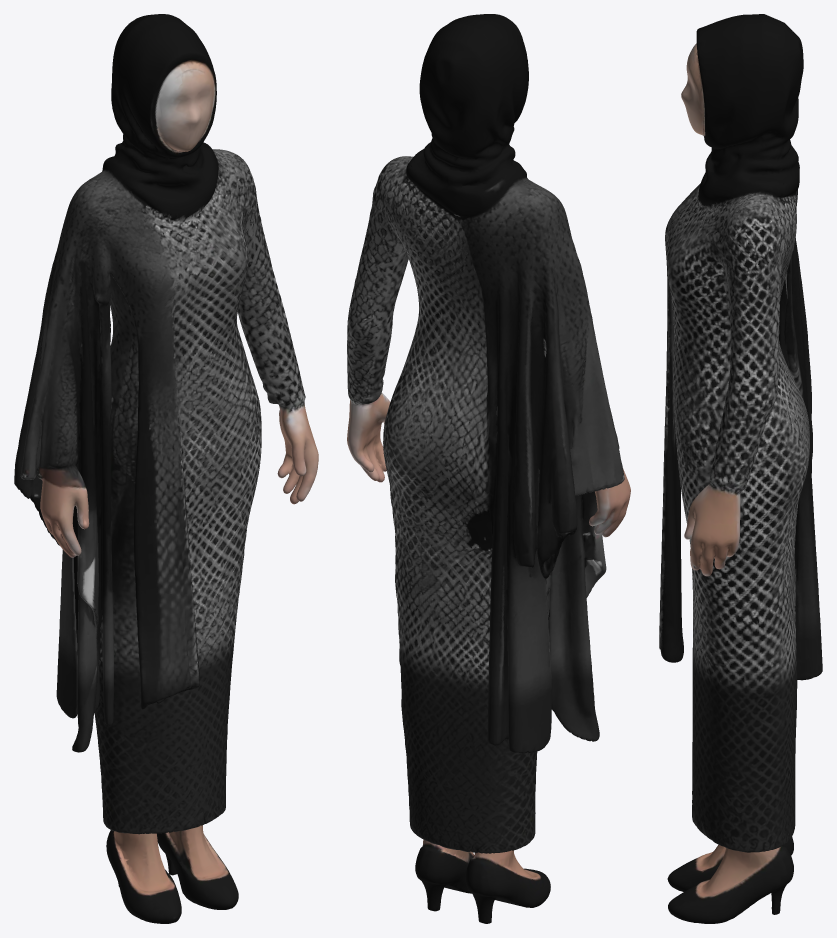
Rendered from hijab-01.glb.
3 views of the same model, side by side, from view 1: azimuth 30°, elevation 25°; view 2: azimuth 150°, elevation 25°; view 3: azimuth 270°, elevation 25° (orthographic). The views are drawn at different scales.
Visible parts, largest first — view 1: tripo_node_ec4026a7-94fb-4d66-ad1b-1b221d8b9a0d; view 2: tripo_node_ec4026a7-94fb-4d66-ad1b-1b221d8b9a0d; view 3: tripo_node_ec4026a7-94fb-4d66-ad1b-1b221d8b9a0d.
Part boxes in pixels (box(x1,y1,x2,y2)): tripo_node_ec4026a7-94fb-4d66-ad1b-1b221d8b9a0d: box(14, 14, 318, 923); tripo_node_ec4026a7-94fb-4d66-ad1b-1b221d8b9a0d: box(347, 14, 630, 923); tripo_node_ec4026a7-94fb-4d66-ad1b-1b221d8b9a0d: box(659, 14, 822, 923).
Bounding box in the file's own units: 0.3347 × 1 × 0.1679.
1 material, 1 textured.
